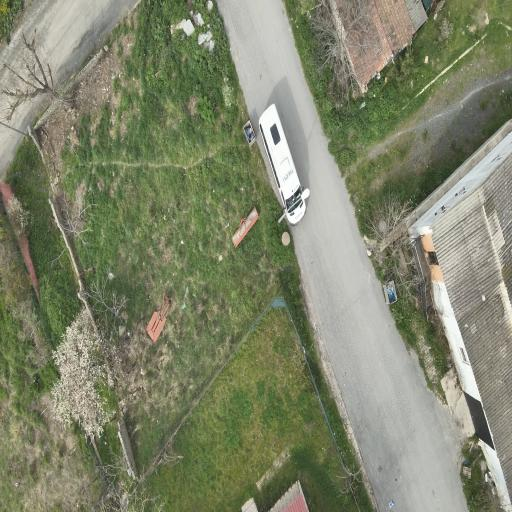car: (258, 104, 308, 225)
